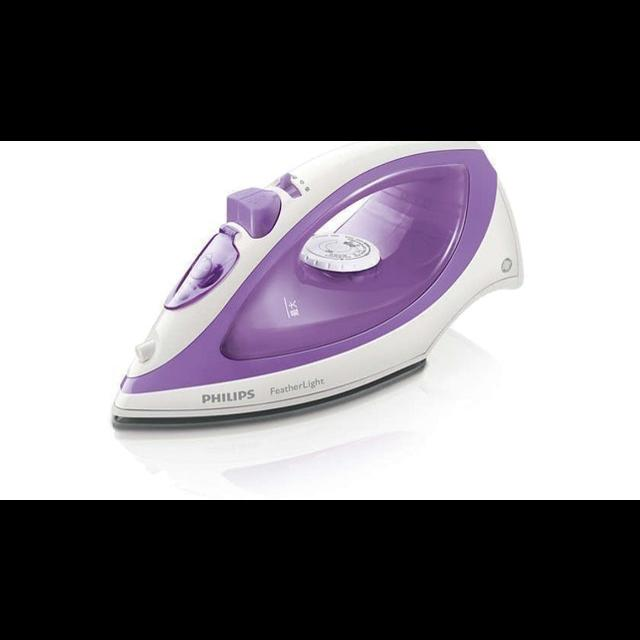Clothes-Iron: (160, 181, 474, 417)
